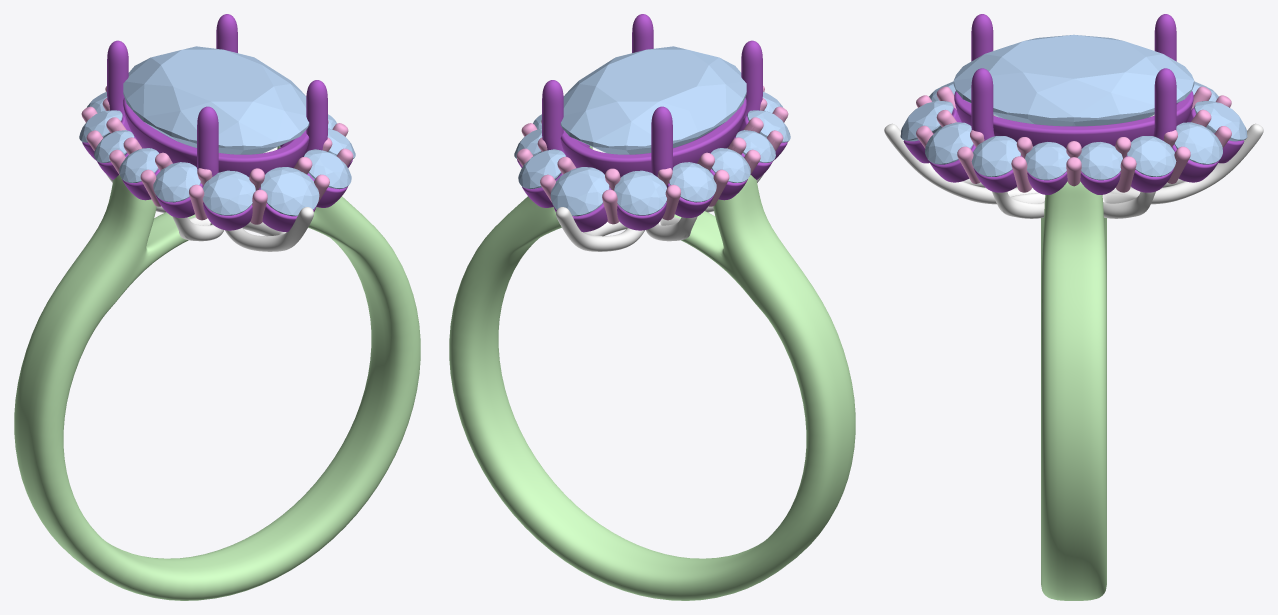
3 views of the same model, side by side, from view 1: azimuth 30°, elevation 25°; view 2: azimuth 150°, elevation 25°; view 3: azimuth 270°, elevation 25° (orthographic).
Visible parts, largest first — view 1: SubD RING BUILDER, GG_Oval, Gems (×7), PRONG HEAD BUILDER (×4), Bazel Gallery (×3), JU-004.3dm; view 2: SubD RING BUILDER, GG_Oval, Gems (×7), PRONG HEAD BUILDER (×4), Bazel Gallery (×3), JU-004.3dm; view 3: SubD RING BUILDER, GG_Oval, Gems (×8), Bazel Gallery (×7), JU-004.3dm, PRONG HEAD BUILDER (×4), Prongs Brep (×2).
Part boxes in pixels (x1,y1,x2,y2): SubD RING BUILDER: (14, 146, 420, 600); GG_Oval: (123, 46, 309, 154); Gems (×7): (79, 110, 351, 216); PRONG HEAD BUILDER (×4): (107, 14, 327, 186); Bazel Gallery (×3): (123, 98, 316, 232); JU-004.3dm: (106, 148, 313, 251); SubD RING BUILDER: (449, 146, 855, 600); GG_Oval: (560, 46, 746, 154); Gems (×7): (518, 110, 790, 216); PRONG HEAD BUILDER (×4): (542, 14, 762, 186); Bazel Gallery (×3): (553, 98, 746, 232); JU-004.3dm: (556, 148, 763, 251); SubD RING BUILDER: (1041, 181, 1106, 600); GG_Oval: (953, 34, 1194, 126); Gems (×8): (900, 101, 1247, 180); Bazel Gallery (×7): (928, 91, 1219, 194); JU-004.3dm: (884, 114, 1263, 218); PRONG HEAD BUILDER (×4): (971, 14, 1176, 140); Prongs Brep (×2): (1011, 156, 1136, 192).
Size of the model in its own units: 2.17 by 2.83 by 1.81.
